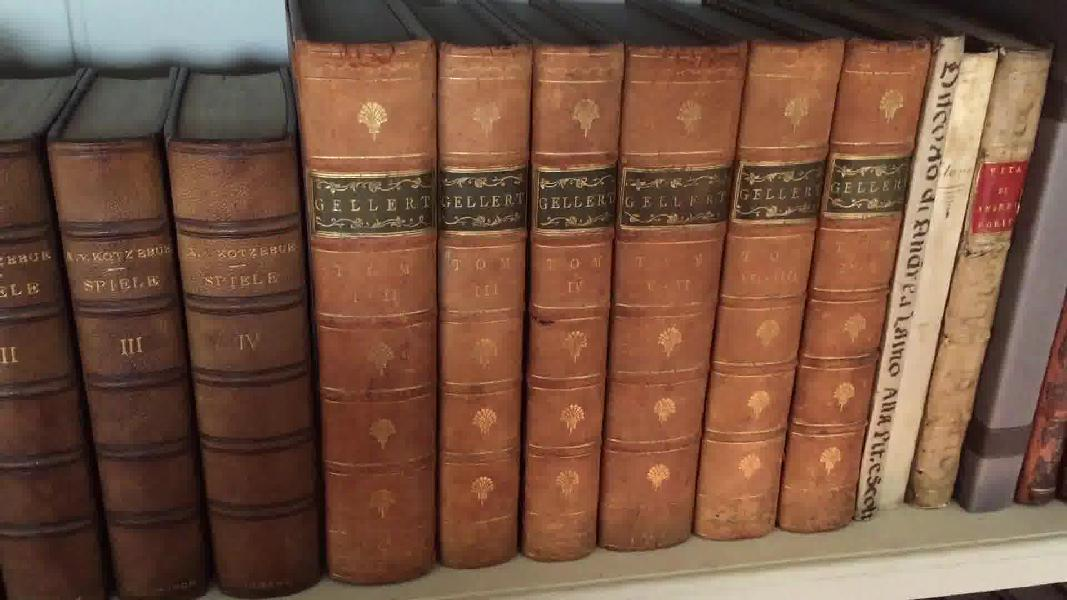Aa6-18_23: (283, 29, 906, 586)
Aa6-24: (863, 32, 956, 539)
Aa6-25: (878, 51, 998, 515)
Aa6-26: (905, 47, 1052, 511)
